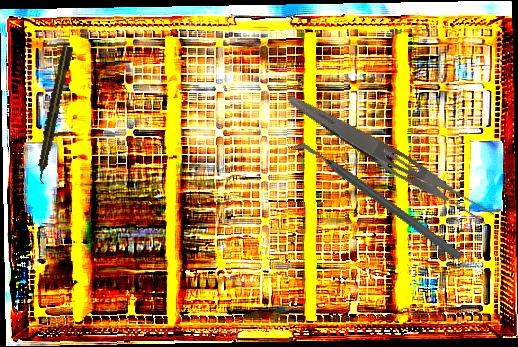Chopper: (285, 95, 466, 306)
Dressing Forceps: (279, 89, 499, 231)
Handpiece: (32, 45, 75, 185)
